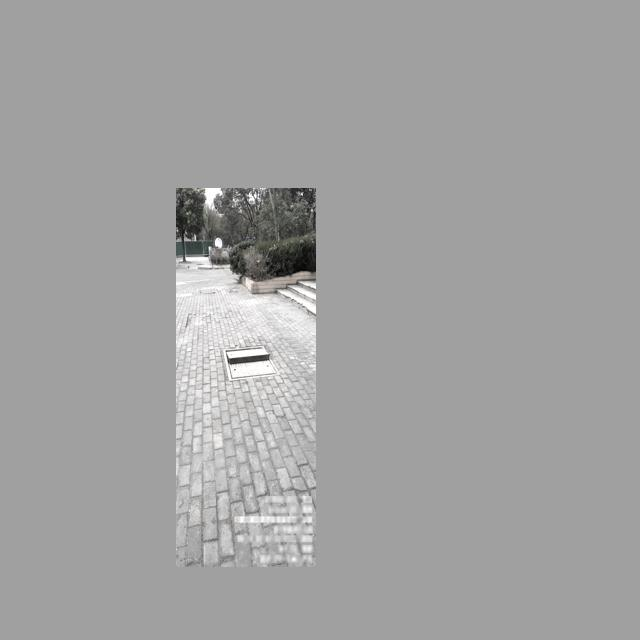uncovered: (224, 344, 281, 381)
